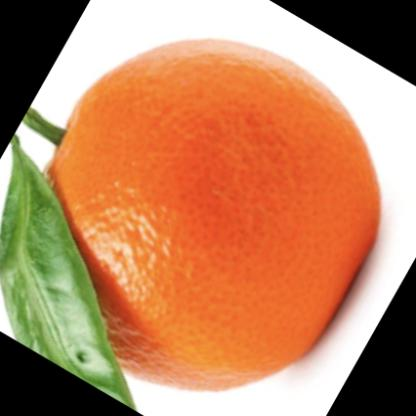fresh: (34, 38, 381, 394)
